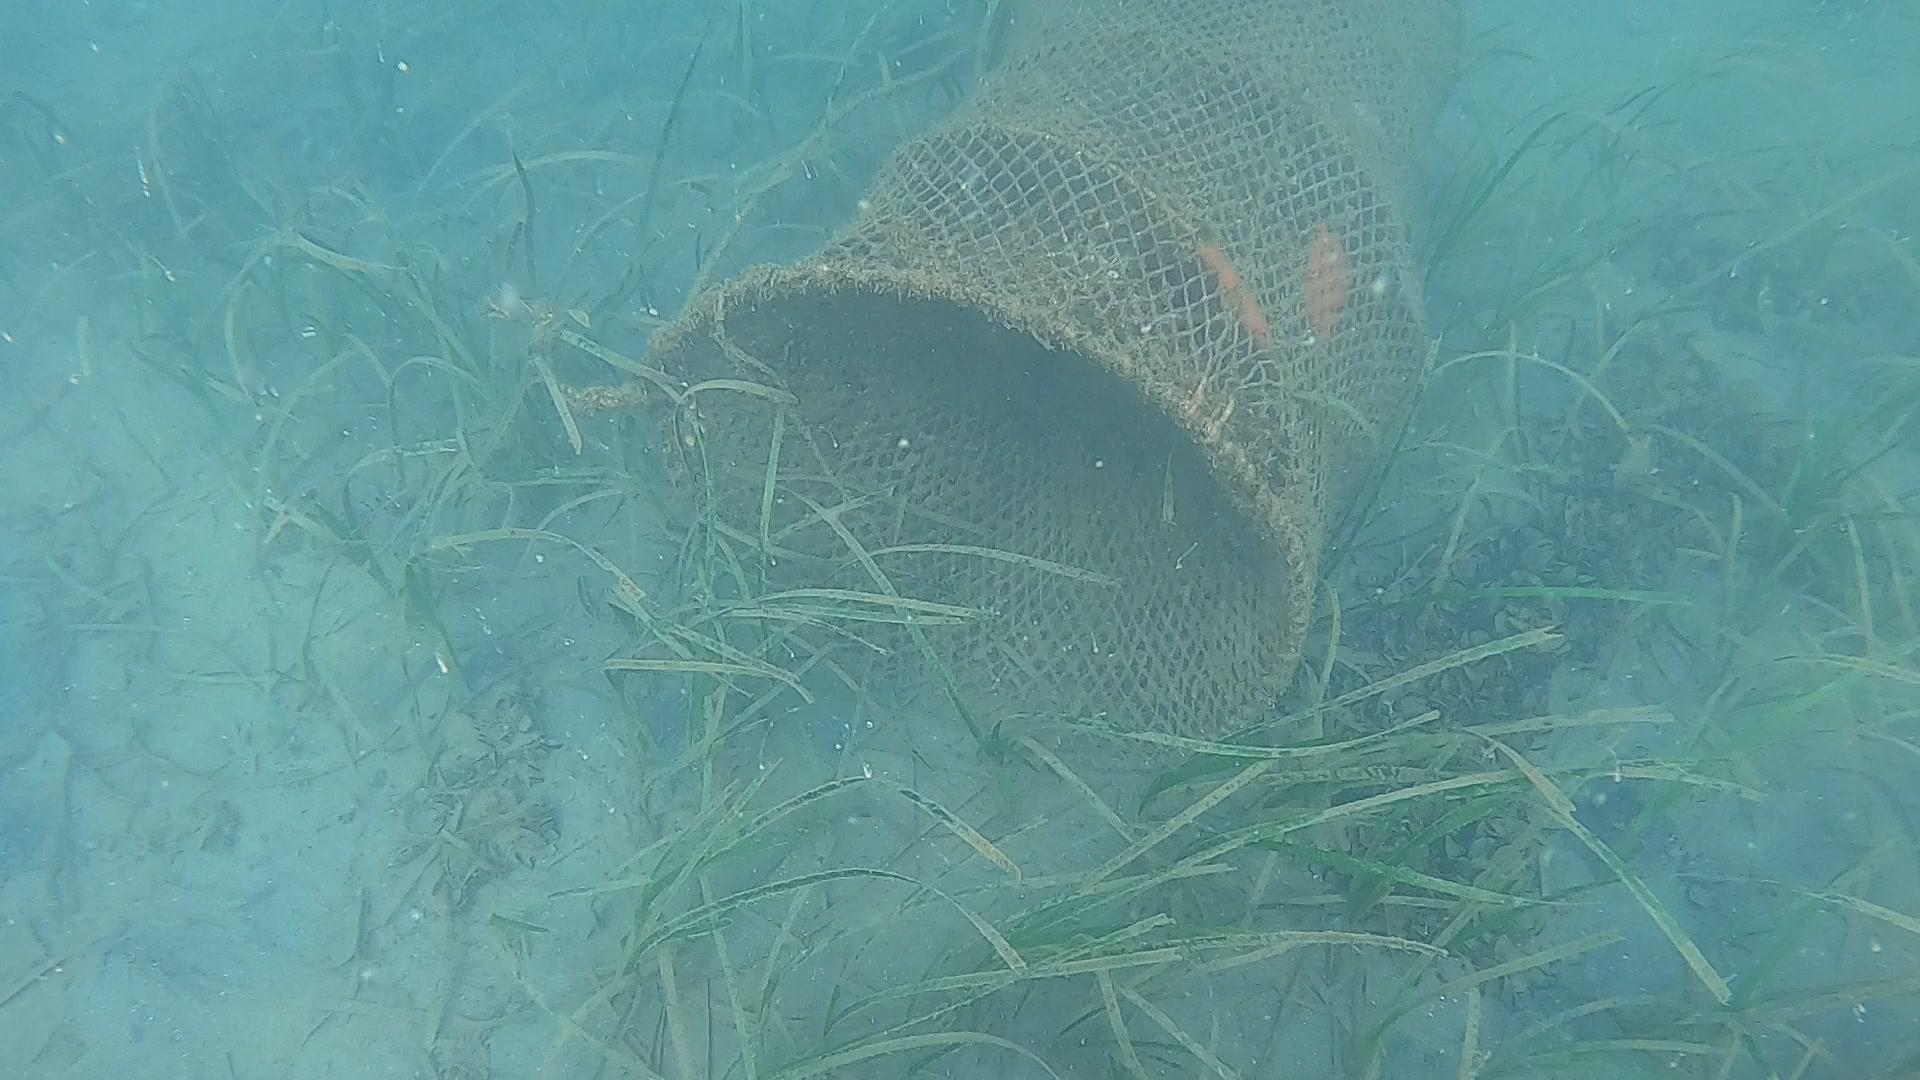spring fish trap: (628, 0, 1472, 748)
